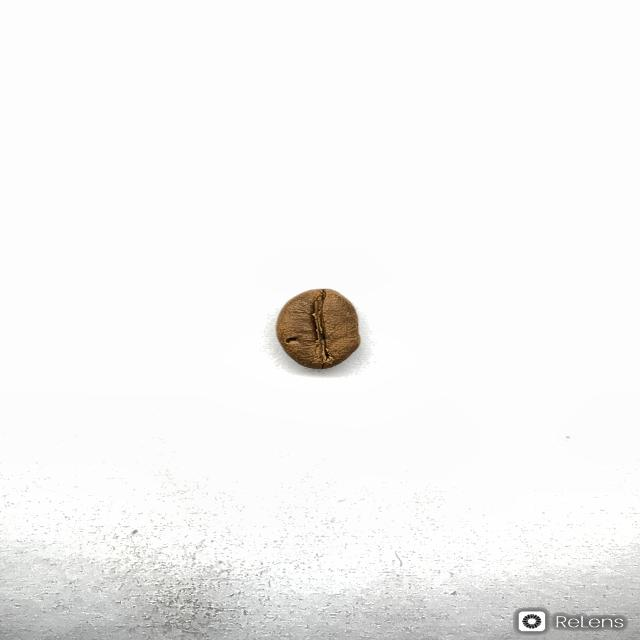Insect damage: (274, 287, 361, 370)
